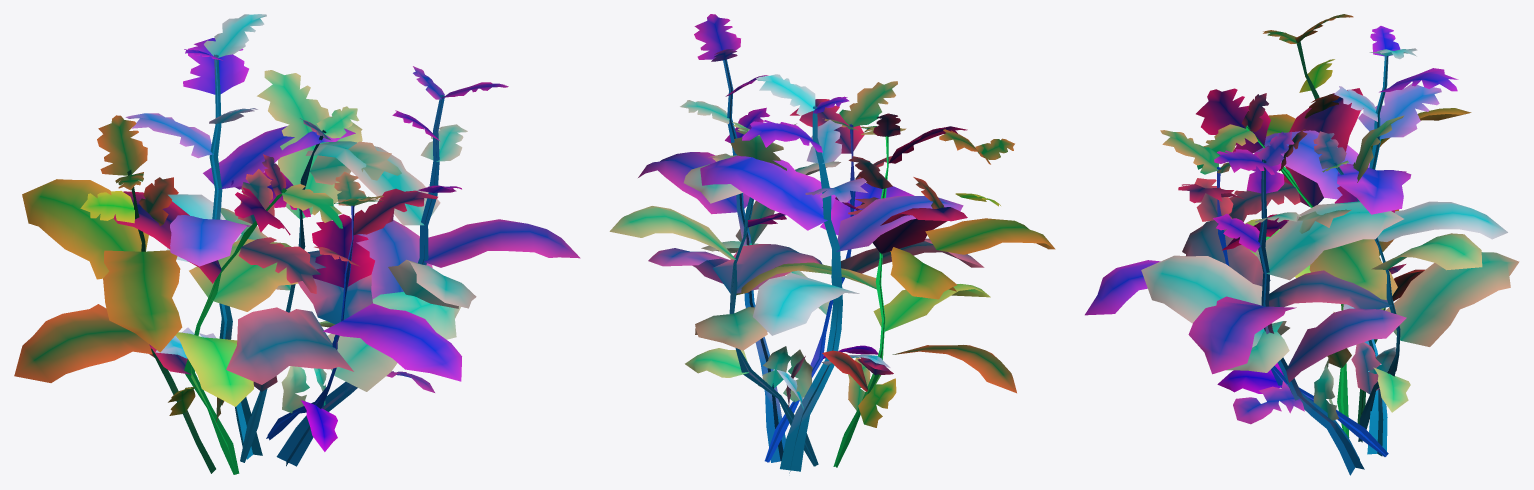
The model's file is Black_Locust_wdvhberja_Mid_wdvhberja_VarD_LOD1.fbx.
3 renders of one model, left to right at view 1: azimuth 30°, elevation 25°; view 2: azimuth 150°, elevation 25°; view 3: azimuth 270°, elevation 25°, orthographic. The views are drawn at different scales.
Parts seen in each view (by area): view 1: _m0p9_VarD_LOD2; view 2: _m0p9_VarD_LOD2; view 3: _m0p9_VarD_LOD2.
Part boxes in pixels (x1,y1,x2,y2): _m0p9_VarD_LOD2: (14,14,580,474); _m0p9_VarD_LOD2: (609,14,1055,473); _m0p9_VarD_LOD2: (1085,14,1519,475).
Size of the model in its own units: 56.38 by 48.66 by 46.04.
